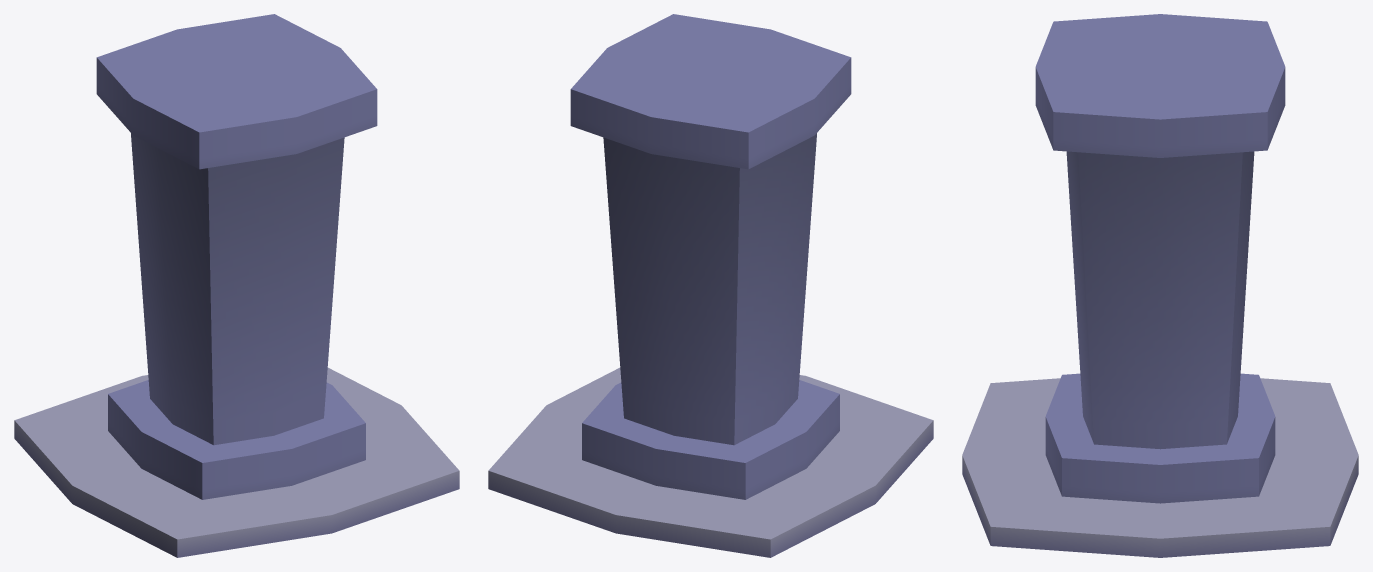
The model's file is template_detail__2_0_lev1.glb.
The picture shows the model from 3 angles, left to right: view 1: azimuth 30°, elevation 25°; view 2: azimuth 150°, elevation 25°; view 3: azimuth 270°, elevation 25°; orthographic projection. The views are drawn at different scales.
Parts seen in each view (by area): view 1: template_detail__2_0_lev1; view 2: template_detail__2_0_lev1; view 3: template_detail__2_0_lev1.
Part boxes in pixels (left/top/right/bottom): template_detail__2_0_lev1: left=14, top=14, right=459, bottom=557; template_detail__2_0_lev1: left=488, top=14, right=933, bottom=557; template_detail__2_0_lev1: left=962, top=14, right=1358, bottom=557.
Bounding box in the file's own units: 1.67 × 1.9 × 1.67.
1 material, 1 textured.
